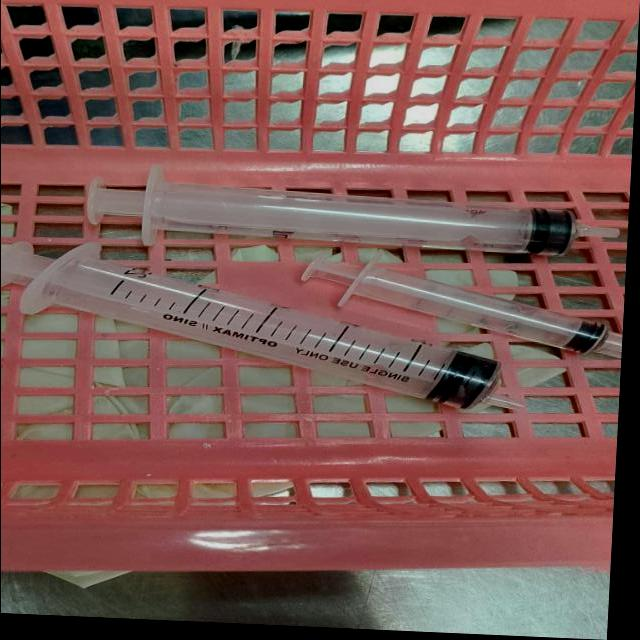General: (4, 162, 622, 580)
Sharps: (7, 239, 525, 414), (84, 164, 591, 257), (300, 254, 623, 360)
